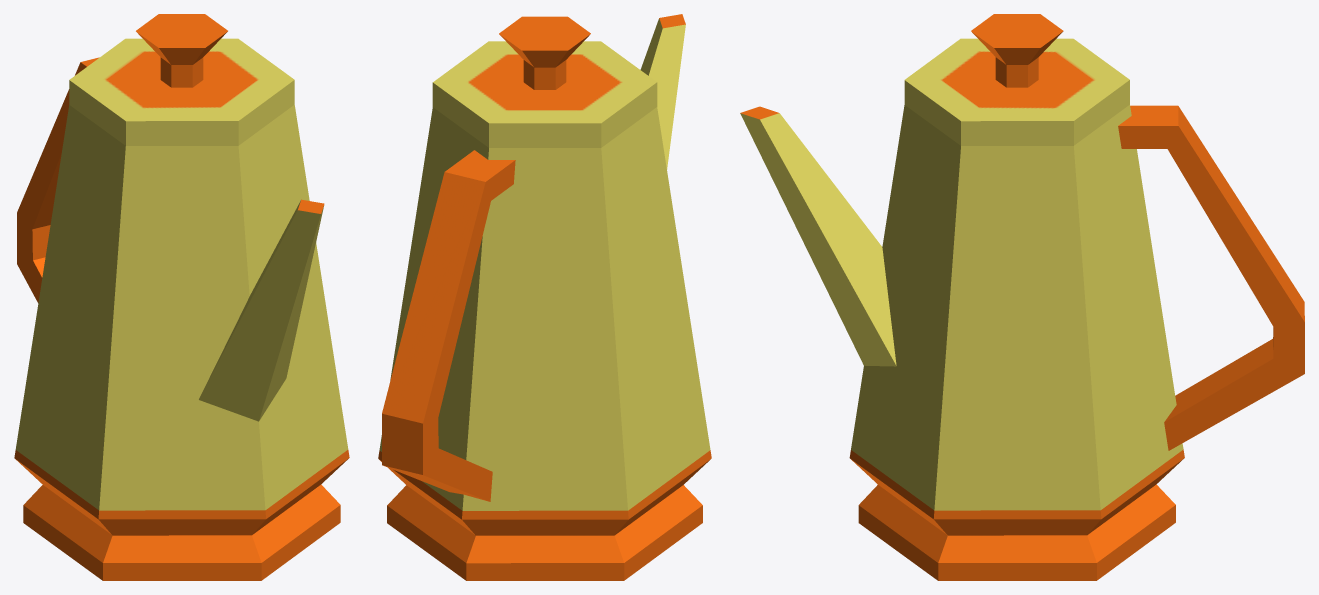
Rendered from coffeepot2_PLY.fbx.
3 views of the same model, side by side, from view 1: azimuth 30°, elevation 25°; view 2: azimuth 150°, elevation 25°; view 3: azimuth 270°, elevation 25° (orthographic).
Parts seen in each view (by area): view 1: coffeepot2_PLY; view 2: coffeepot2_PLY; view 3: coffeepot2_PLY.
Boxes of the visible parts, <box> form: coffeepot2_PLY: <box>14,14,349,580</box>; coffeepot2_PLY: <box>378,14,711,580</box>; coffeepot2_PLY: <box>740,14,1304,580</box>.
Size of the model in its own units: 0.5874 by 1.1 by 1.14.
